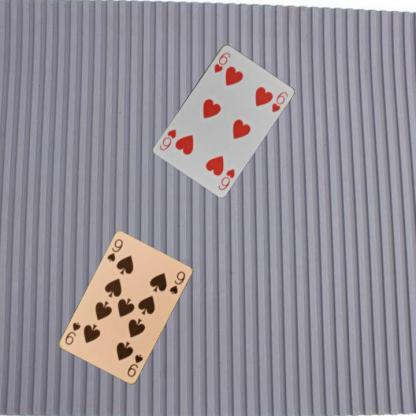6h: (212, 49, 232, 74), (216, 166, 236, 191)
9s: (105, 236, 124, 264), (125, 352, 144, 378)
